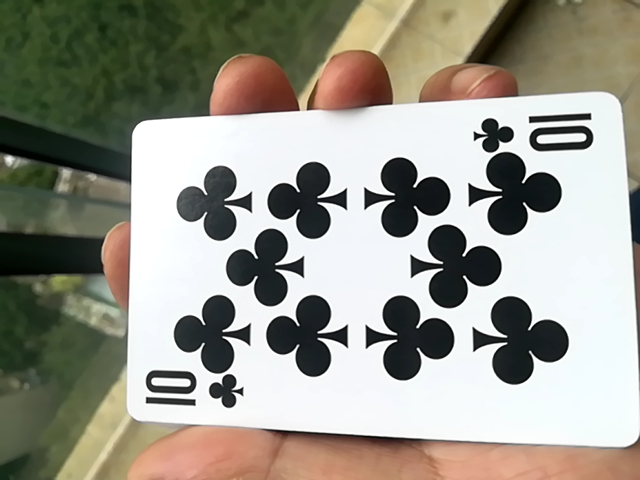mh 10: (120, 108, 635, 456)
